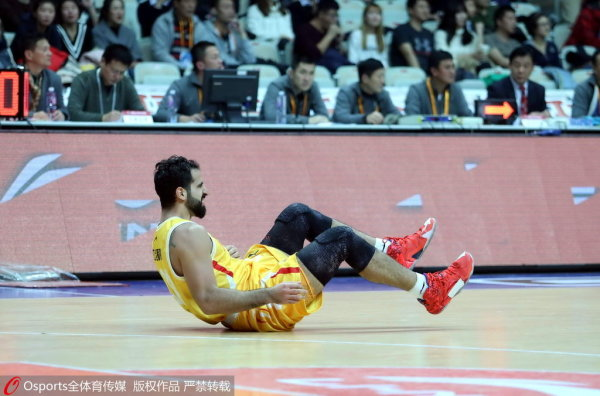10+: (7, 6, 593, 293)
down: (125, 152, 489, 339)
